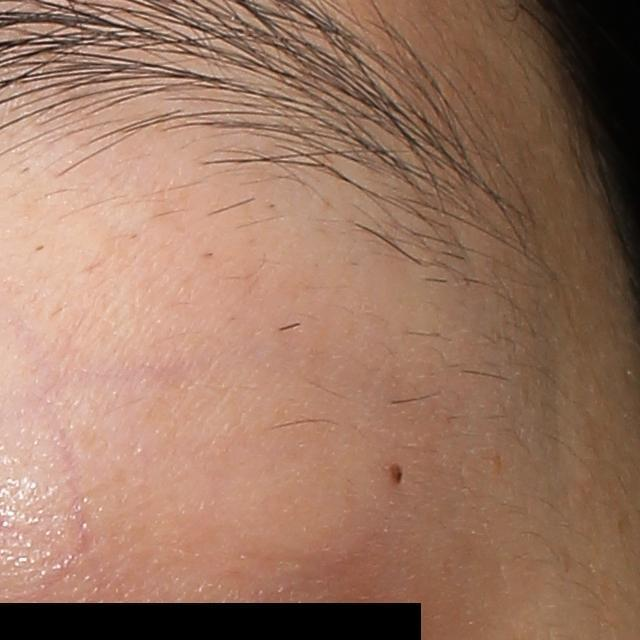nevus: (387, 461, 406, 485)
